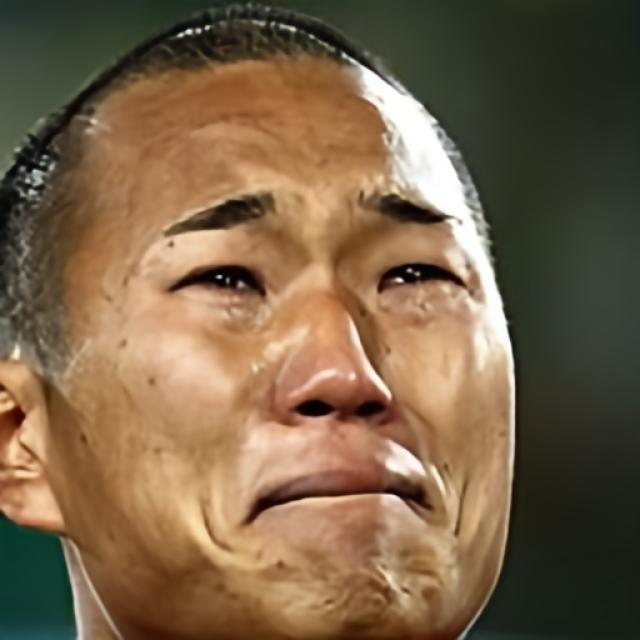sad: (47, 6, 521, 640)
